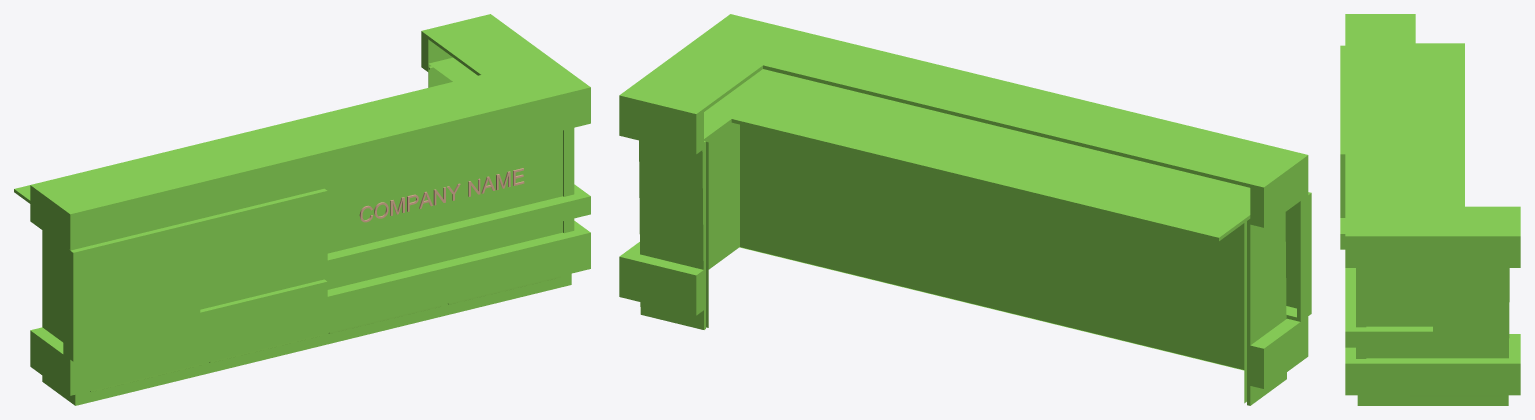
File: Reception_Desk_1_obj.obj
3 renders of one model, left to right at view 1: azimuth 30°, elevation 25°; view 2: azimuth 150°, elevation 25°; view 3: azimuth 270°, elevation 25°, orthographic. The views are drawn at different scales.
Parts seen in each view (by area): view 1: Reception_desk_1_8, Reception_desk_1_4, Reception_desk_1_1, Reception_desk_1_2, Reception_desk_1_5, Reception_desk_1_14, Reception_desk_1_3, Reception_desk_1_6, Reception_desk_1_13; view 2: Reception_desk_1_12, Reception_desk_1_8, Reception_desk_1_13, Reception_desk_1_1, Reception_desk_1_2, Reception_desk_1_4; view 3: Reception_desk_1_8, Reception_desk_1_1, Reception_desk_1_13, Reception_desk_1_2, Reception_desk_1_5, Reception_desk_1_4, Reception_desk_1_3, Reception_desk_1_6.
Boxes of the visible parts, x1,y1,x2,y2 form: Reception_desk_1_8: (30, 14, 590, 250); Reception_desk_1_4: (63, 188, 327, 361); Reception_desk_1_1: (42, 66, 571, 405); Reception_desk_1_2: (30, 221, 590, 395); Reception_desk_1_5: (200, 184, 590, 309); Reception_desk_1_14: (359, 168, 524, 222); Reception_desk_1_3: (563, 128, 574, 233); Reception_desk_1_6: (90, 276, 560, 391); Reception_desk_1_13: (14, 57, 477, 203); Reception_desk_1_12: (704, 119, 1246, 403); Reception_desk_1_8: (619, 14, 1308, 227); Reception_desk_1_13: (704, 69, 1250, 241); Reception_desk_1_1: (639, 140, 1286, 405); Reception_desk_1_2: (619, 242, 1308, 388); Reception_desk_1_4: (1285, 192, 1311, 321); Reception_desk_1_8: (1345, 14, 1520, 267); Reception_desk_1_1: (1357, 268, 1509, 405); Reception_desk_1_13: (1415, 43, 1464, 206); Reception_desk_1_2: (1345, 334, 1520, 395); Reception_desk_1_5: (1345, 268, 1432, 347); Reception_desk_1_4: (1340, 45, 1345, 249); Reception_desk_1_3: (1356, 268, 1366, 358); Reception_desk_1_6: (1373, 395, 1501, 396).
Size of what is drawn, in the model's own units: 118 by 43.31 by 40.55.
